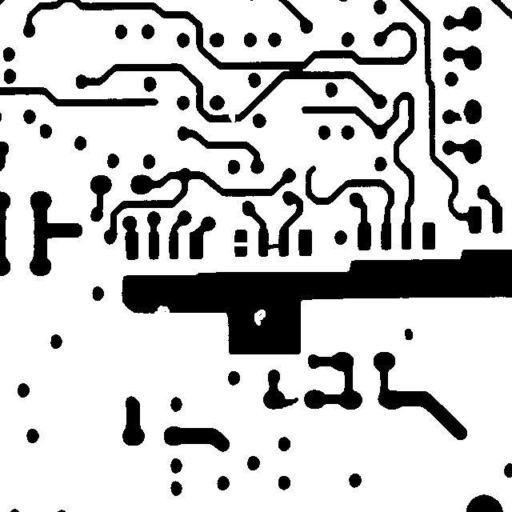copper: (397, 321, 420, 347)
mousebite: (146, 298, 177, 324)
open: (450, 101, 474, 132), (219, 100, 242, 130), (225, 234, 256, 254)
pin-hole: (246, 302, 273, 333)
short: (254, 234, 290, 257), (279, 57, 310, 81)
spur: (269, 390, 306, 416)
